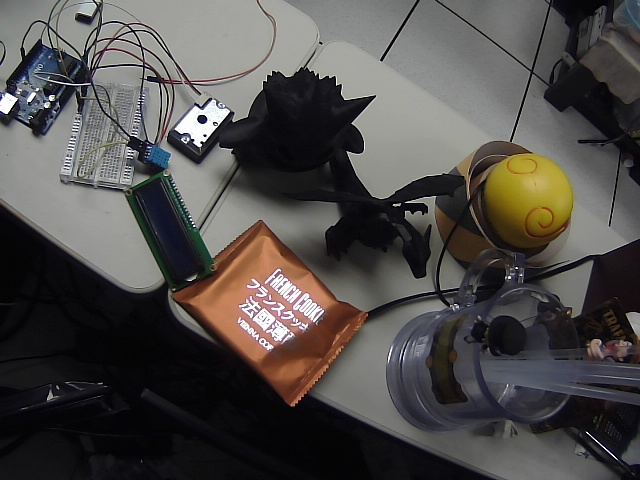frenchcookie: (165, 217, 368, 433)
